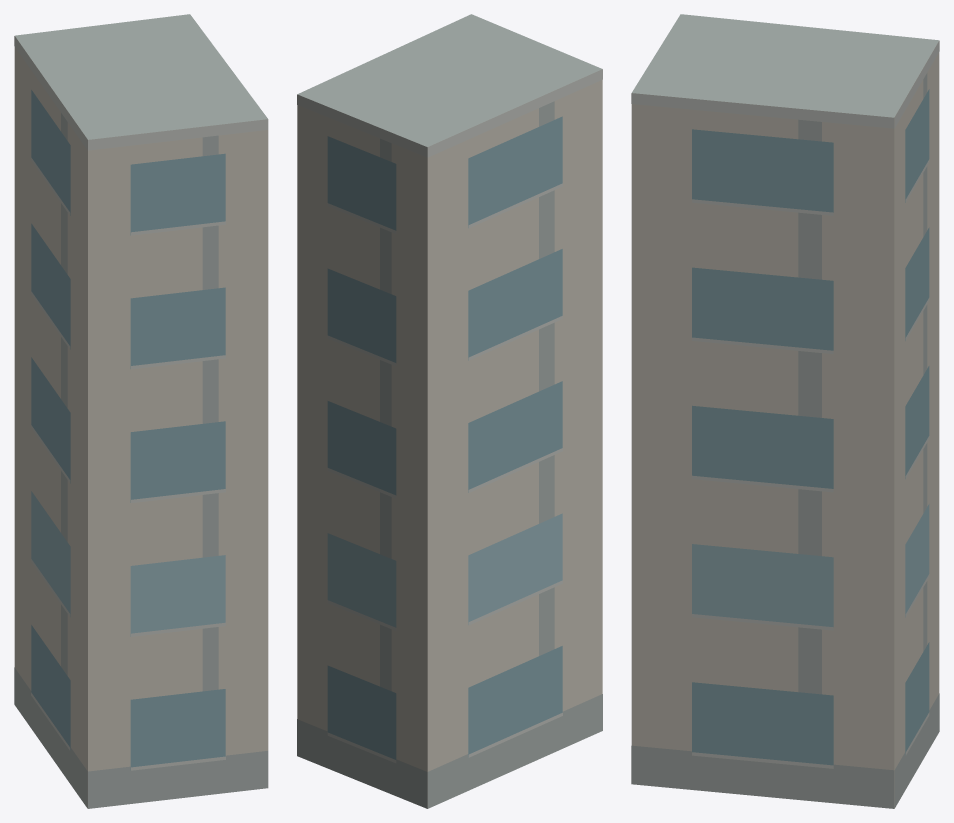
File: survey-upis-32975118.glb
The picture shows the model from 3 angles, left to right: view 1: azimuth 30°, elevation 25°; view 2: azimuth 150°, elevation 25°; view 3: azimuth 270°, elevation 25°; orthographic projection. The views are drawn at different scales.
Parts seen in each view (by area): view 1: survey-upis-32975118.tmp; view 2: survey-upis-32975118.tmp; view 3: survey-upis-32975118.tmp.
Boxes of the visible parts, x1,y1,x2,y2 form: survey-upis-32975118.tmp: (14,14,268,808); survey-upis-32975118.tmp: (297,14,602,808); survey-upis-32975118.tmp: (631,14,939,808).
Size of the model in its own units: 4.92 by 15.25 by 6.17.
